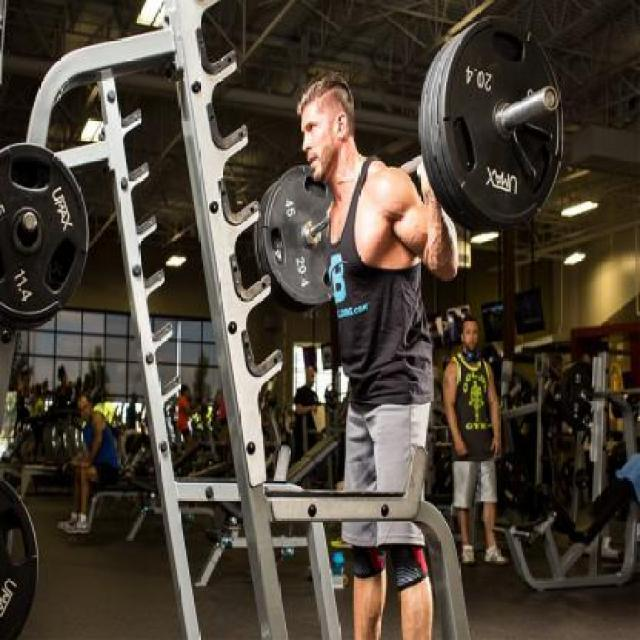Barbell: (542, 82, 560, 113)
